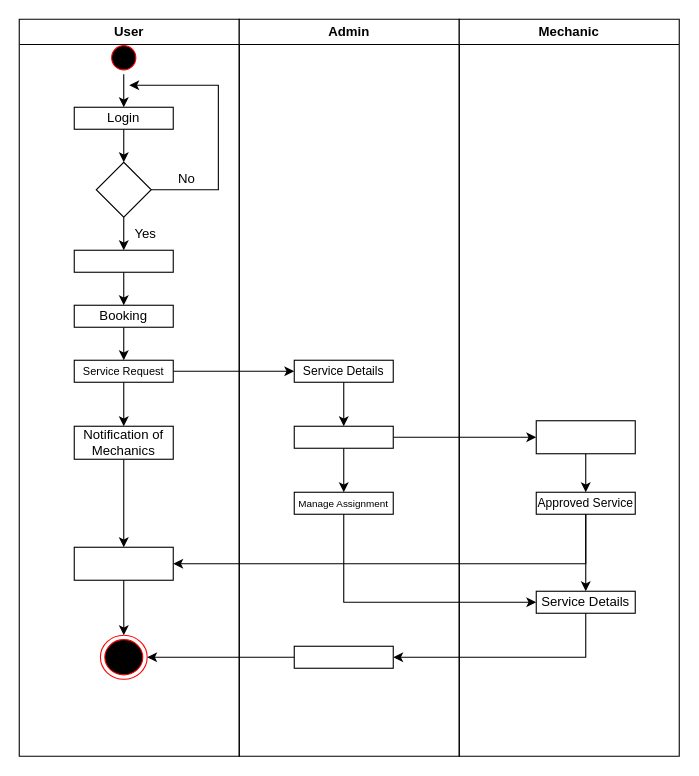
Some shapes in this 699 by 776 pixel diagram are drawn without their labels. Here are the shapes that lost their labels. From the top down, the box of each, then its label:
(73, 249, 173, 272): Enquiry
(293, 425, 393, 448): Mechanics Assign
(535, 420, 635, 454): Notification of Service
(73, 546, 173, 580): Track Vehicle Service
(293, 645, 393, 668): Assign Report
